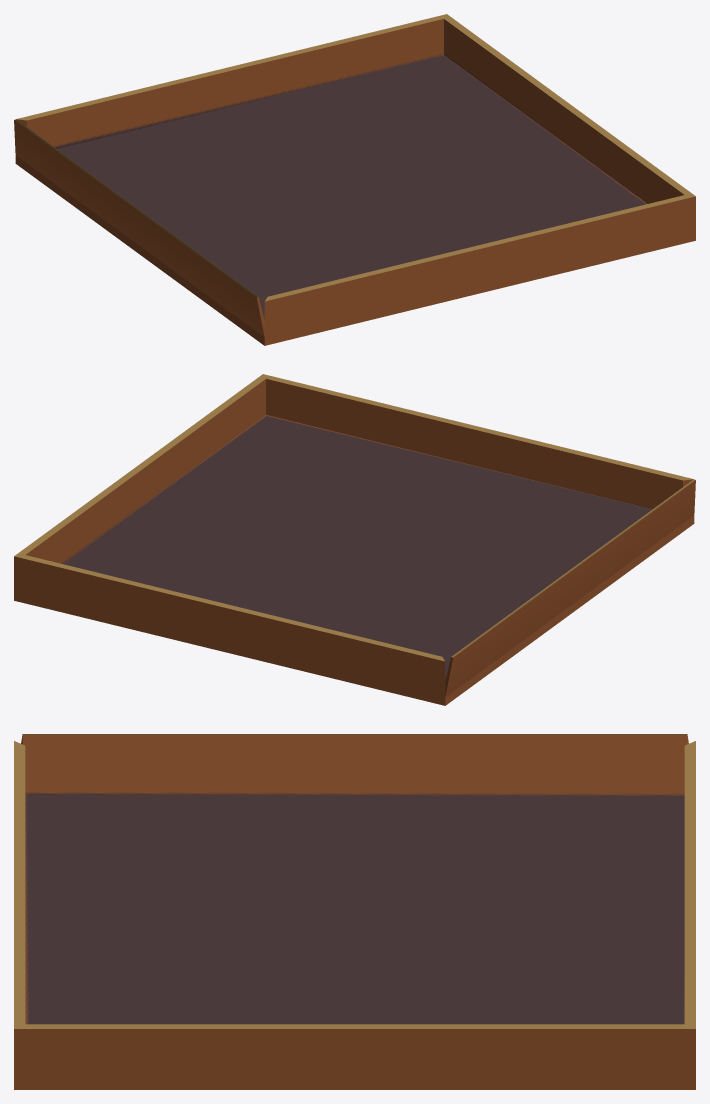
The model's file is SM_Pizza_Box_Bottom.fbx.
3 views of the same model, one above another, from view 1: azimuth 30°, elevation 25°; view 2: azimuth 150°, elevation 25°; view 3: azimuth 270°, elevation 25° (orthographic). The views are drawn at different scales.
Visible parts, largest first — view 1: PIzza_Box_Bottom; view 2: PIzza_Box_Bottom; view 3: PIzza_Box_Bottom.
Part boxes in pixels (<box>): PIzza_Box_Bottom: <box>14,14,695,345</box>; PIzza_Box_Bottom: <box>14,374,695,705</box>; PIzza_Box_Bottom: <box>14,734,695,1089</box>.
Bounding box in the file's own units: 16.63 × 1.72 × 16.45.
